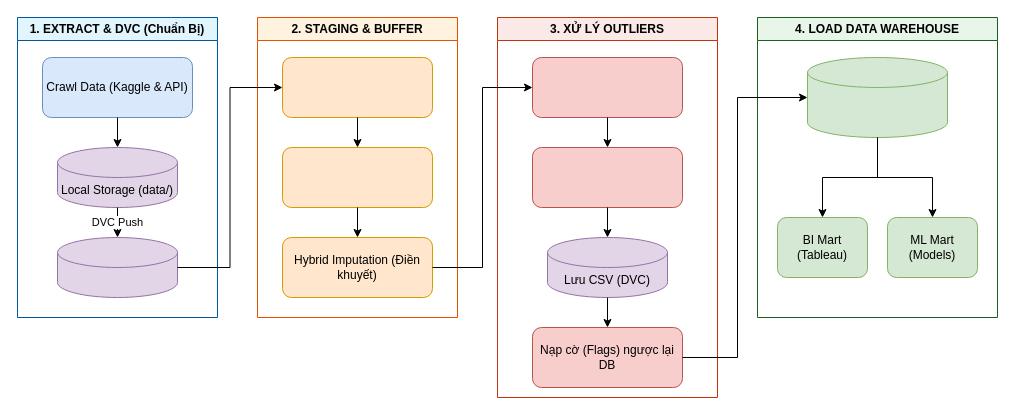
Some shapes in this 1015 by 415 pixel diagram are drawn without their labels. Here are the shapes that lost their labels. From the top down, the centre of each, then its label:
the point at 357,87: Load vào DB Staging
the point at 607,87: Export DB ra Parquet
the point at 877,97: Supabase Data Warehouse
the point at 357,177: Chuyển sang Buffer Tables
the point at 607,177: Chạy Python Rolling IQR
the point at 117,267: S3 Object Storage (Supabase)
